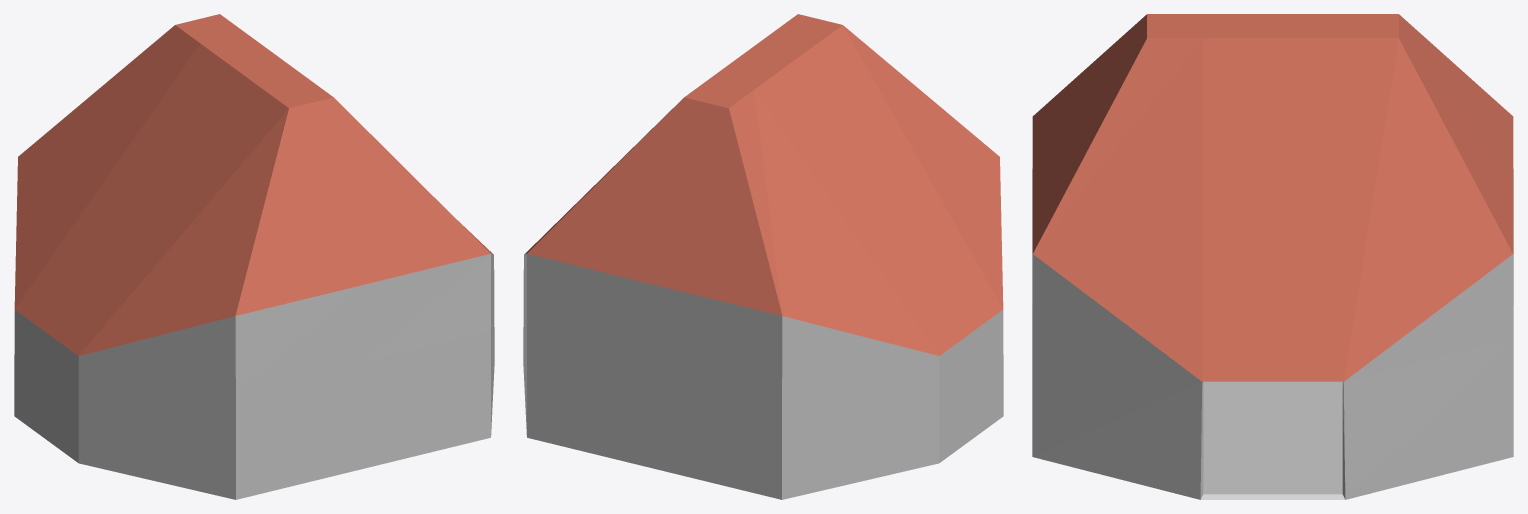
The model's file is house_1.fbx.
3 views of the same model, side by side, from view 1: azimuth 30°, elevation 25°; view 2: azimuth 150°, elevation 25°; view 3: azimuth 270°, elevation 25° (orthographic). The views are drawn at different scales.
Parts seen in each view (by area): view 1: house_1; view 2: house_1; view 3: house_1.
Boxes of the visible parts, <box> form: house_1: <box>14,14,494,499</box>; house_1: <box>523,14,1003,499</box>; house_1: <box>1032,14,1513,499</box>.
Bounding box in the file's own units: 975 × 736 × 886.
